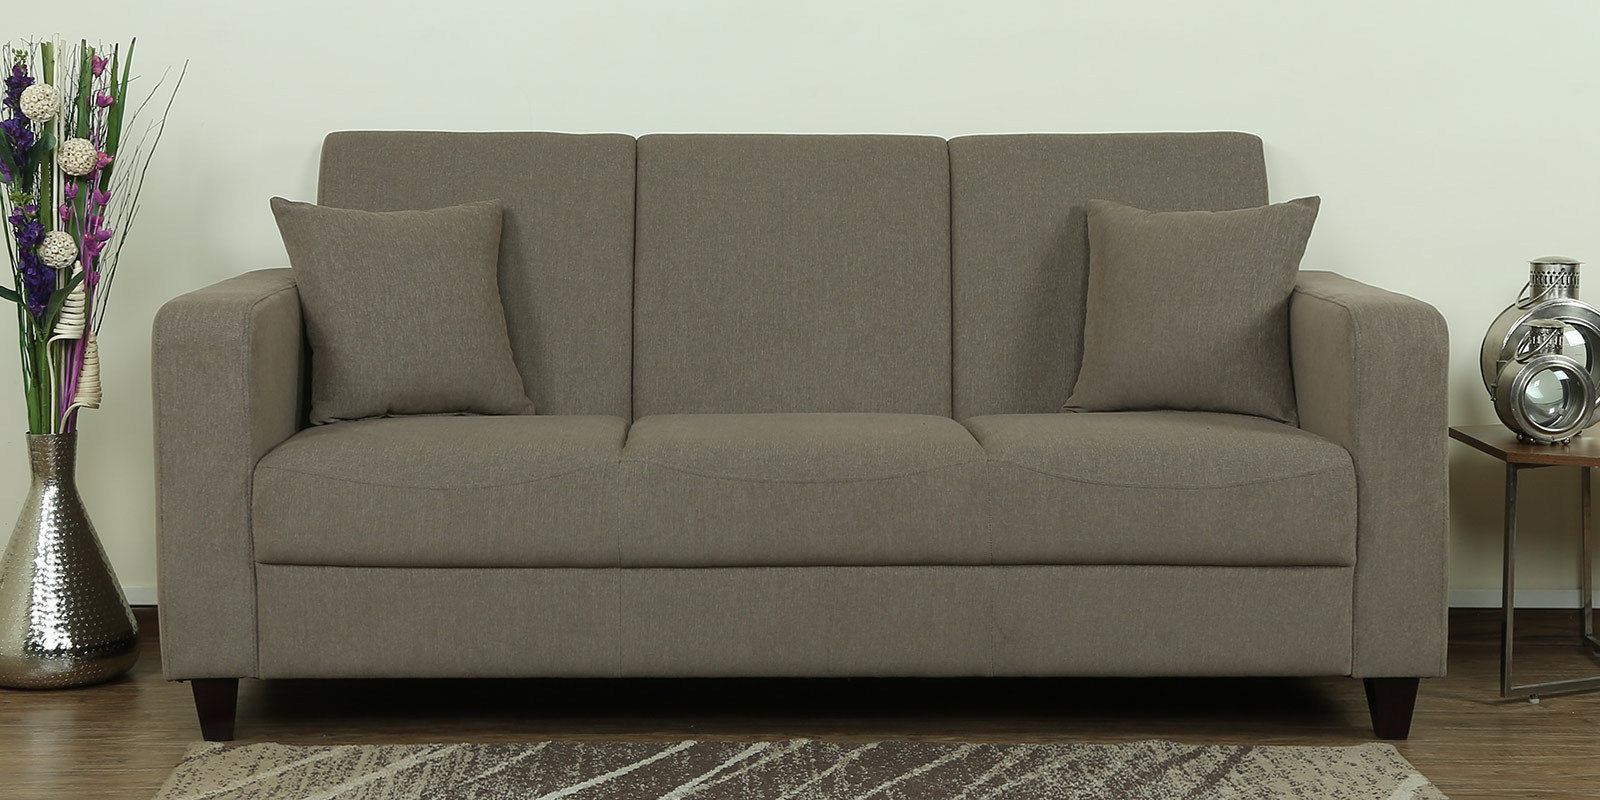Alba Three Seater Sofa in Sandy Brown Colour by CasaCraft: (148, 109, 1464, 751)
